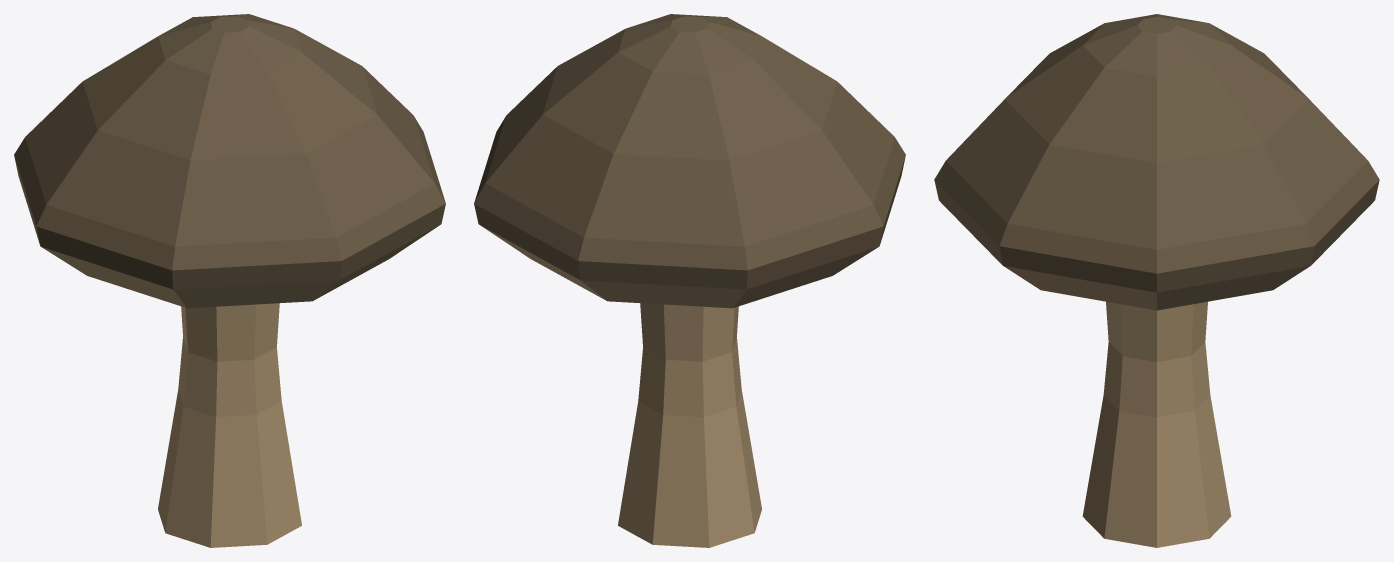
File: BrownMushroom.glb
3 views of the same model, side by side, from view 1: azimuth 30°, elevation 25°; view 2: azimuth 150°, elevation 25°; view 3: azimuth 270°, elevation 25° (orthographic).
Parts seen in each view (by area): view 1: Circle; view 2: Circle; view 3: Circle.
Boxes of the visible parts, x1,y1,x2,y2 form: Circle: (14, 14, 445, 547); Circle: (474, 14, 905, 547); Circle: (934, 14, 1379, 547).
Bounding box in the file's own units: 3.7 × 4.5 × 3.7.
